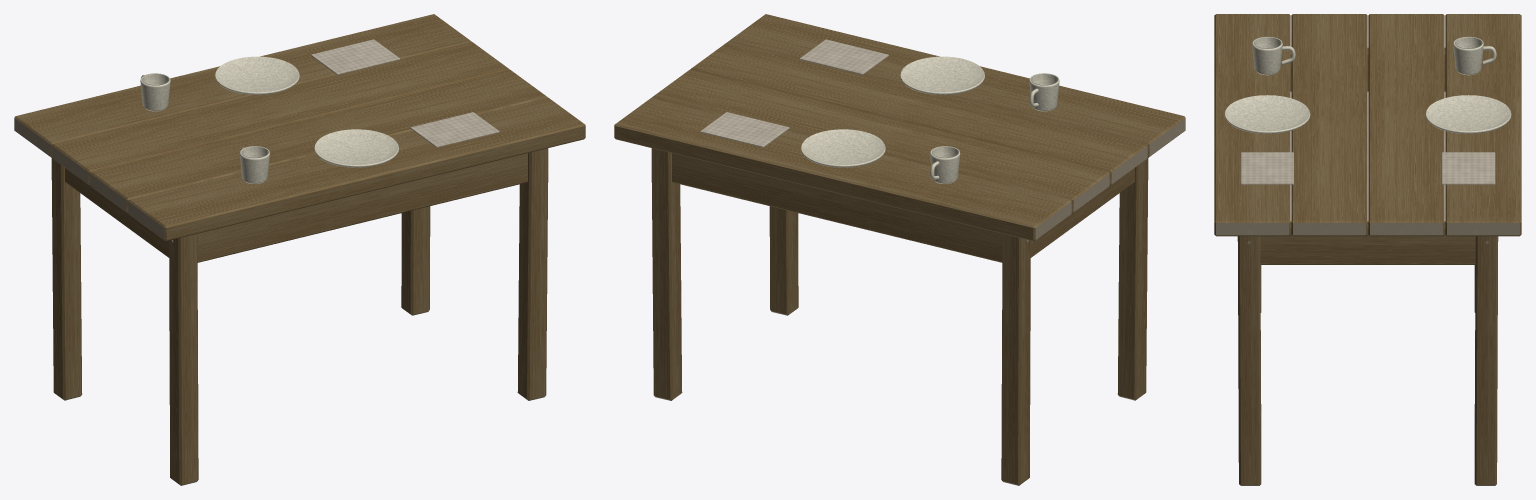
3 views of the same model, side by side, from view 1: azimuth 30°, elevation 25°; view 2: azimuth 150°, elevation 25°; view 3: azimuth 270°, elevation 25° (orthographic).
Parts seen in each view (by area): view 1: Mesh_warm, Mesh_ceramic, Mesh_linen, Mesh_endgrain; view 2: Mesh_warm, Mesh_ceramic, Mesh_linen, Mesh_endgrain; view 3: Mesh_warm, Mesh_ceramic, Mesh_endgrain, Mesh_linen.
Boxes of the visible parts, x1,y1,x2,y2 form: Mesh_warm: (14,14,585,484); Mesh_ceramic: (140,56,399,183); Mesh_linen: (311,39,499,147); Mesh_endgrain: (14,118,544,485); Mesh_warm: (614,14,1185,484); Mesh_ceramic: (800,56,1059,183); Mesh_linen: (700,39,888,147); Mesh_endgrain: (655,118,1185,485); Mesh_warm: (1214,14,1521,484); Mesh_ceramic: (1224,36,1511,133); Mesh_endgrain: (1216,223,1519,485); Mesh_linen: (1240,152,1495,184).
Bounding box in the file's own units: 1.2 × 0.8242 × 0.7485.
Materials: 4 (4 with a texture image).
